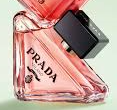prada_paradoxe: (10, 8, 113, 106)
